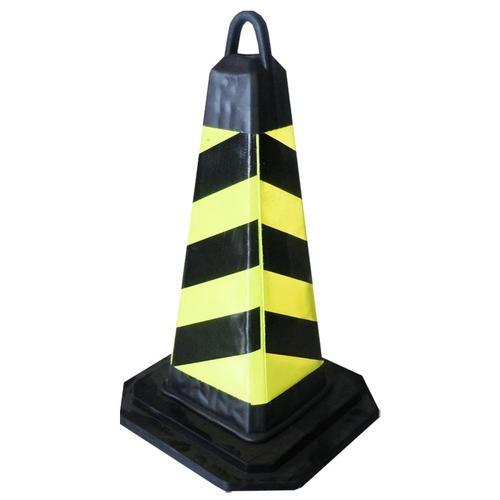cone_barrel: (119, 34, 379, 471)
